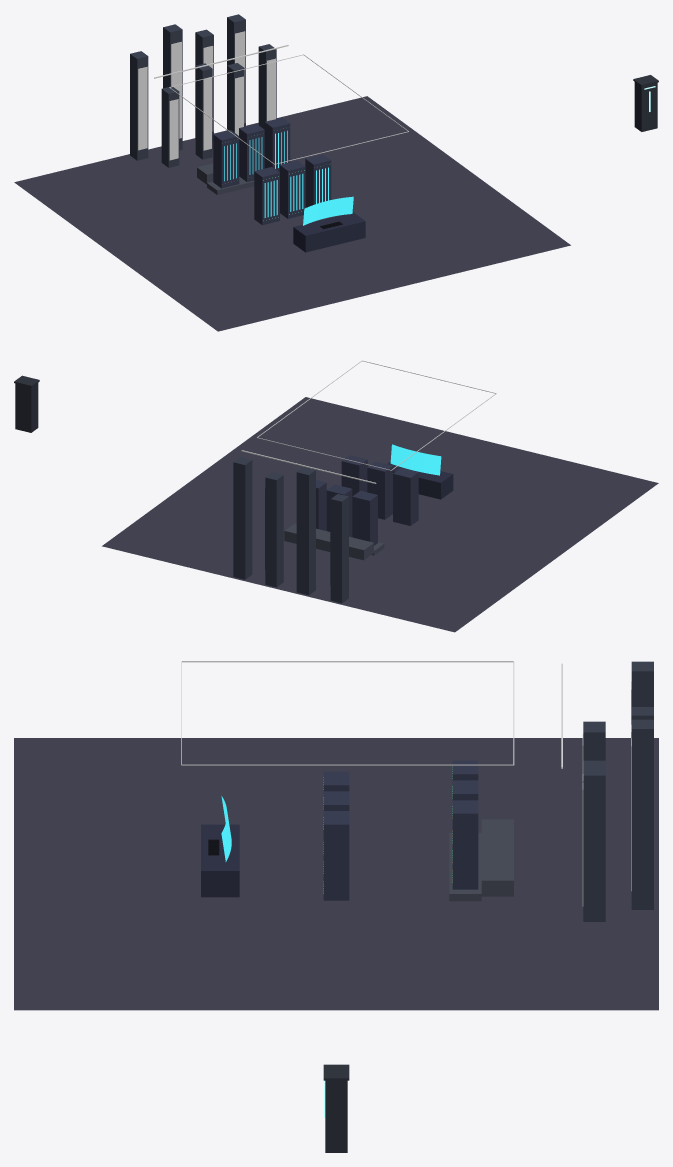
File: server-room-portrait.glb
The picture shows the model from 3 angles, top to bottom: view 1: azimuth 30°, elevation 25°; view 2: azimuth 150°, elevation 25°; view 3: azimuth 270°, elevation 25°; orthographic projection. The views are drawn at different scales.
Visible parts, largest first — view 1: Floor, Desk, Rack_micromatch, Rack_econos, Rack_ocaml-lob, Rack_staija, BackgroundTower_0, DistantRackBody, Rack_studysprint, Rack_qforge, BackgroundTower_3, BackgroundTower_1 (+13 smaller); view 2: Floor, BackgroundTower_2, BackgroundTower_6, BackgroundTower_4, BackgroundTower_0, Rack_econos, DistantRackBody, Rack_micromatch, Rack_ocaml-lob, Monitor, Riser_research, Desk (+3 smaller); view 3: Floor, BackgroundTower_6, BackgroundTower_7, Riser_research, Desk, Rack_qforge, Rack_studysprint, DistantRackBody, BackgroundTower_2, Riser_swe, BackgroundTower_3.
Boxes of the visible parts, x1=… form: Floor: x1=14, y1=96, x2=570, y2=331; Desk: x1=293, y1=212, x2=365, y2=252; Rack_micromatch: x1=213, y1=130, x2=239, y2=188; Rack_econos: x1=254, y1=167, x2=279, y2=225; Rack_ocaml-lob: x1=279, y1=160, x2=305, y2=218; Rack_staija: x1=239, y1=124, x2=264, y2=181; BackgroundTower_0: x1=130, y1=51, x2=148, y2=160; DistantRackBody: x1=633, y1=75, x2=658, y2=131; Rack_studysprint: x1=264, y1=117, x2=290, y2=172; Rack_qforge: x1=305, y1=154, x2=331, y2=207; BackgroundTower_3: x1=195, y1=63, x2=212, y2=159; BackgroundTower_1: x1=161, y1=86, x2=179, y2=167; Floor: x1=102, y1=397, x2=658, y2=632; BackgroundTower_2: x1=296, y1=467, x2=315, y2=595; BackgroundTower_6: x1=233, y1=457, x2=252, y2=579; BackgroundTower_4: x1=265, y1=472, x2=283, y2=587; BackgroundTower_0: x1=330, y1=494, x2=348, y2=603; Rack_econos: x1=393, y1=468, x2=418, y2=525; DistantRackBody: x1=14, y1=375, x2=39, y2=432; Rack_micromatch: x1=352, y1=490, x2=377, y2=545; Rack_ocaml-lob: x1=367, y1=461, x2=393, y2=519; Monitor: x1=390, y1=444, x2=441, y2=475; Riser_research: x1=284, y1=523, x2=373, y2=560; Desk: x1=387, y1=461, x2=453, y2=499; Floor: x1=14, y1=738, x2=658, y2=1010; BackgroundTower_6: x1=631, y1=719, x2=653, y2=909; BackgroundTower_7: x1=583, y1=767, x2=605, y2=921; Riser_research: x1=481, y1=819, x2=513, y2=896; Desk: x1=201, y1=824, x2=239, y2=897; Rack_qforge: x1=323, y1=811, x2=349, y2=900; Rack_studysprint: x1=452, y1=800, x2=478, y2=889; DistantRackBody: x1=323, y1=1064, x2=349, y2=1152; BackgroundTower_2: x1=631, y1=661, x2=653, y2=706; Riser_swe: x1=449, y1=832, x2=481, y2=901; BackgroundTower_3: x1=583, y1=724, x2=605, y2=760.
Size of the model in its own units: 30.5 by 6.5 by 20.
